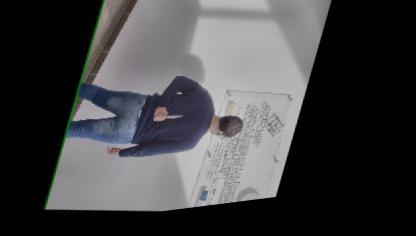knife: (152, 110, 190, 130)
